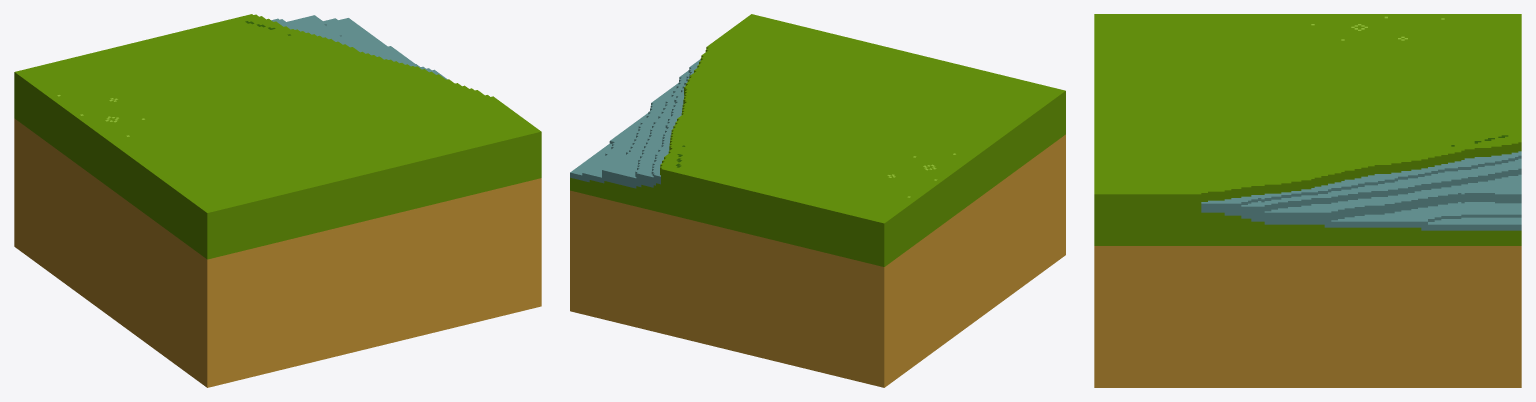
The picture shows the model from 3 angles, left to right: view 1: azimuth 30°, elevation 25°; view 2: azimuth 150°, elevation 25°; view 3: azimuth 270°, elevation 25°; orthographic projection. The views are drawn at different scales.
Parts seen in each view (by area): view 1: 13N; view 2: 13N; view 3: 13N.
Part boxes in pixels (x1=…): 13N: x1=14, y1=14, x2=541, y2=387; 13N: x1=570, y1=14, x2=1065, y2=387; 13N: x1=1094, y1=14, x2=1521, y2=387.
Size of the model in its own units: 12.8 by 6.4 by 12.8.
1 material, 1 textured.
